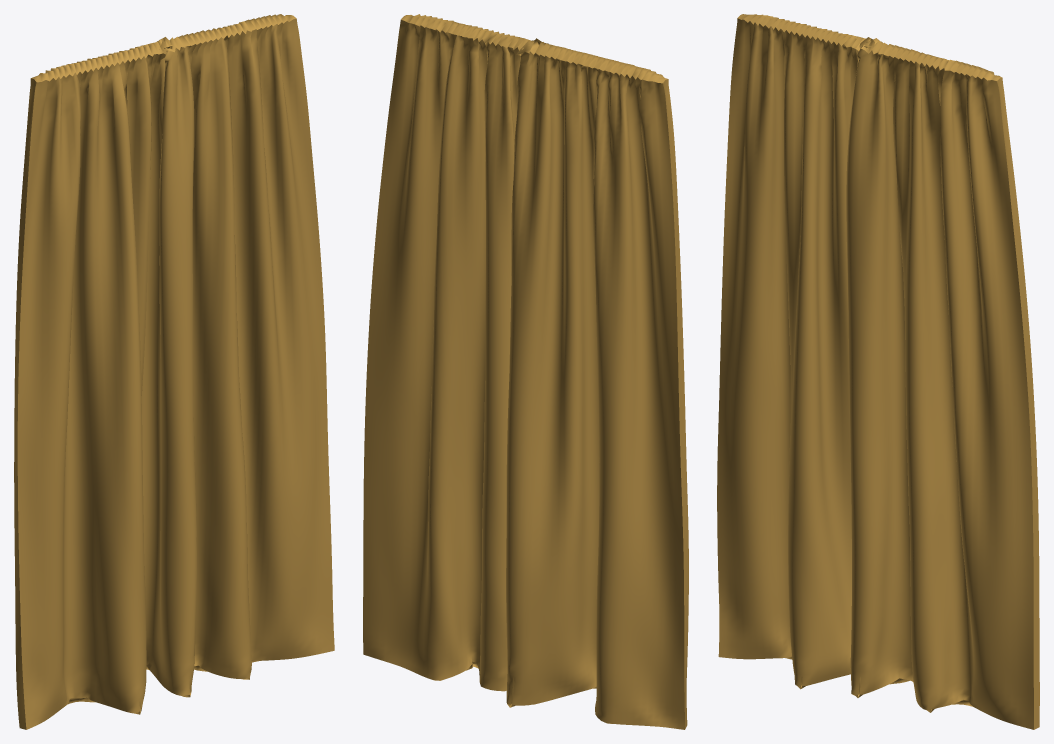
File: yellow curtain.fbx
3 views of the same model, side by side, from view 1: azimuth 30°, elevation 25°; view 2: azimuth 150°, elevation 25°; view 3: azimuth 330°, elevation 25° (orthographic).
Parts seen in each view (by area): view 1: curtain_yellow:pCube62; view 2: curtain_yellow:pCube62; view 3: curtain_yellow:pCube62.
Boxes of the visible parts, bbox=[...] form: curtain_yellow:pCube62: bbox=[14, 14, 334, 729]; curtain_yellow:pCube62: bbox=[363, 14, 688, 729]; curtain_yellow:pCube62: bbox=[717, 14, 1039, 729].
Size of the model in its own units: 29.1 by 57.25 by 7.44.
